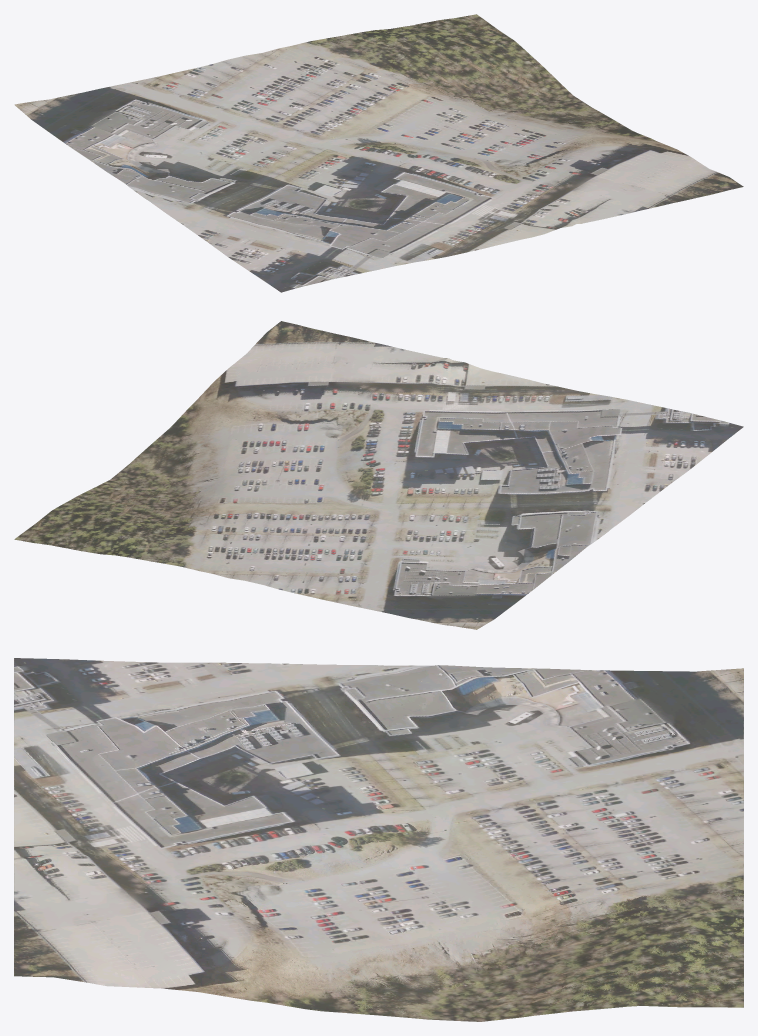
Rendered from CM_Terrain_24492711_6815288.fbx.
3 renders of one model, top to bottom at view 1: azimuth 30°, elevation 25°; view 2: azimuth 150°, elevation 25°; view 3: azimuth 270°, elevation 25°, orthographic. The views are drawn at different scales.
Visible parts, largest first — view 1: CM_Terrain_24492711_6815288_LOD0; view 2: CM_Terrain_24492711_6815288_LOD0; view 3: CM_Terrain_24492711_6815288_LOD0.
Boxes of the visible parts, x1,y1,x2,y2 form: CM_Terrain_24492711_6815288_LOD0: (14,14,743,292); CM_Terrain_24492711_6815288_LOD0: (14,321,743,629); CM_Terrain_24492711_6815288_LOD0: (14,658,743,1021).
Size of what is drawn, in the model's own units: 205 by 17.49 by 205.
